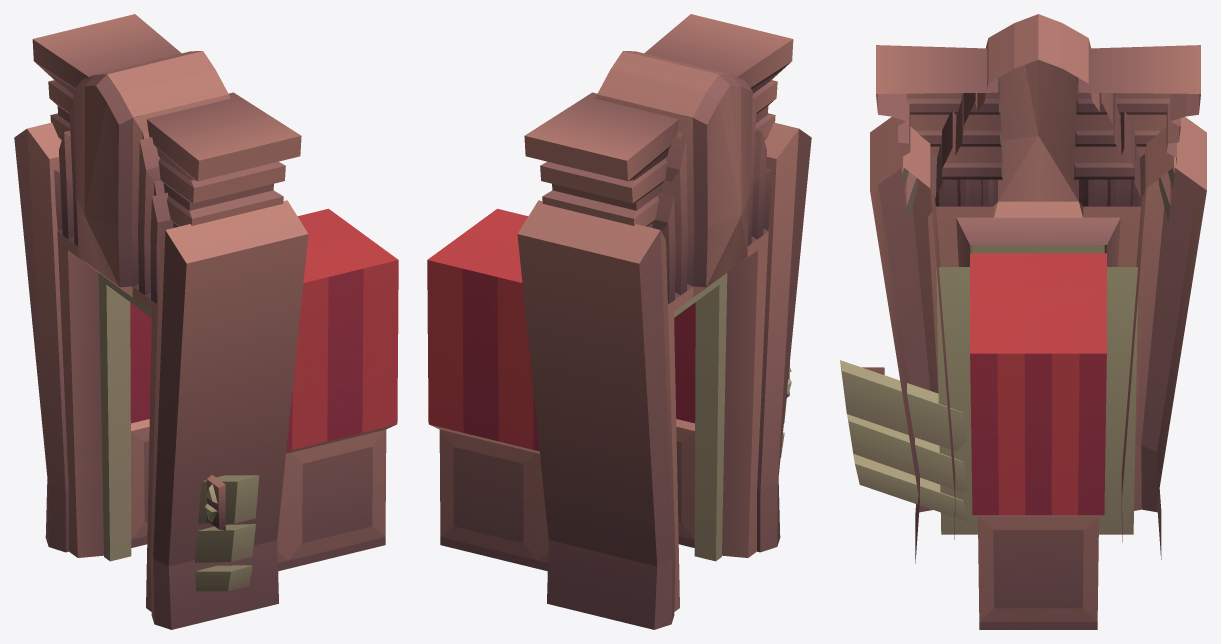
File: SM_ElevatorDecoOpen.fbx
3 views of the same model, side by side, from view 1: azimuth 30°, elevation 25°; view 2: azimuth 150°, elevation 25°; view 3: azimuth 270°, elevation 25° (orthographic). The views are drawn at different scales.
Visible parts, largest first — view 1: SM_ElevatorGoldOpen; view 2: SM_ElevatorGoldOpen; view 3: SM_ElevatorGoldOpen.
Boxes of the visible parts, x1,y1,x2,y2 form: SM_ElevatorGoldOpen: (14, 14, 398, 629); SM_ElevatorGoldOpen: (427, 14, 811, 629); SM_ElevatorGoldOpen: (840, 14, 1206, 629).
Bounding box in the file's own units: 218 × 254 × 380.
